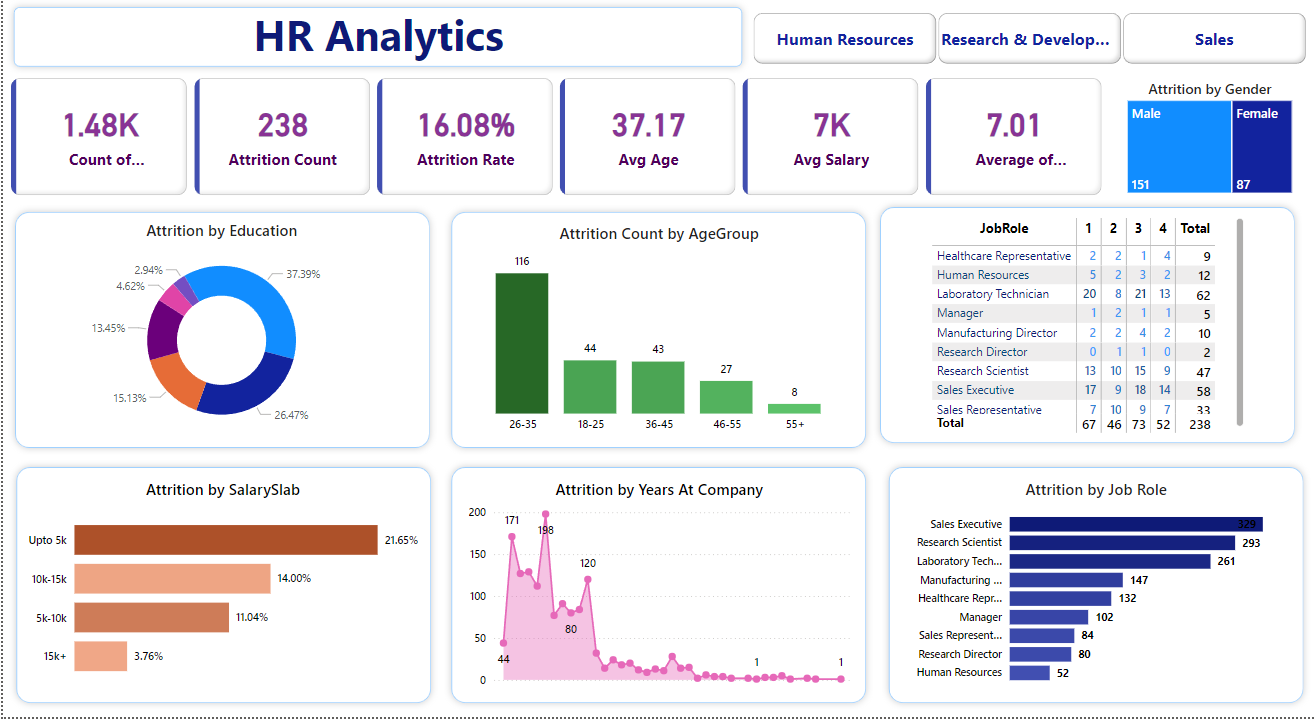

This screenshot's page, from the dashboard's own definition file:
{"tool":"powerbi","page":{"name":"Page 1","canvas":[1500,820],"ordinal":0},"visuals":[{"type":"cardVisual","fields":{"Data":["CountNonNull(HR_Analytics.EmployeeCount)","HR_Analytics.Attrition Count","HR_Analytics.Attrition Rate","HR_Analytics.Avg Age","HR_Analytics.Avg Salary","Avg(HR_Analytics.YearsAtCompany)"]},"box":[4.3,84.3,1258.6,144.3],"z":0},{"type":"shape","box":[5.7,234.3,490,285.7],"z":1000},{"type":"shape","box":[504.3,234.3,490,285.7],"z":2000},{"type":"shape","box":[994.3,228.6,490,285.7],"z":3000},{"type":"shape","box":[7.1,525.7,490,285.7],"z":4000},{"type":"shape","box":[504.3,525.7,490,285.7],"z":5000},{"type":"shape","box":[1004.3,525.7,490,285.7],"z":6000},{"type":"donutChart","title":"Attrition by Education","fields":{"Y":["HR_Analytics.Attrition Count"],"Category":["HR_Analytics.EducationField"]},"box":[21.4,251.4,457.1,252.9],"z":7000},{"type":"pivotTable","fields":{"Rows":["HR_Analytics.JobRole"],"Columns":["HR_Analytics.JobSatisfaction"],"Values":["HR_Analytics.Attrition Count"]},"box":[1057.1,244.3,365.7,255.7],"z":8000},{"type":"barChart","title":"Attrition by SalarySlab","fields":{"Category":["HR_Analytics.SalarySlab"],"Y":["HR_Analytics.Attrition Rate"]},"box":[22.9,547.1,457.1,244.3],"z":9000},{"type":"columnChart","fields":{"Category":["HR_Analytics.AgeGroup"],"Y":["HR_Analytics.Attrition Count"]},"box":[527.1,254.3,445.7,248.6],"z":10000},{"type":"shape","box":[4.3,0,848.6,84.3],"z":11000},{"type":"textbox","box":[234.3,1.4,390,78.6],"z":12000},{"type":"treemap","title":"Attrition by Gender","fields":{"Group":["HR_Analytics.Gender"],"Values":["HR_Analytics.Attrition Count"]},"box":[1280,90,198.6,135.7],"z":13000},{"type":"barChart","title":"Attrition by Job Role","fields":{"Category":["HR_Analytics.JobRole"],"Y":["CountNonNull(HR_Analytics.Attrition)"]},"box":[1025.7,547.1,447.1,244.3],"z":14000},{"type":"areaChart","title":"Attrition by Years At Company","fields":{"Y":["CountNonNull(HR_Analytics.Attrition)"],"Category":["HR_Analytics.YearsAtCompany"]},"box":[527.1,547.1,445.7,244.3],"z":15000},{"type":"advancedSlicerVisual","fields":{"Values":["HR_Analytics.Department"]},"box":[852.9,10,641.4,68.6],"z":16000}]}

Visuals, with their boxes in screenshot pixels (x1, y1, x2, y2), scaled from the page's 1500x820 canvas onto the 1315x720 screenshot:
cardVisual - CountNonNull(HR_Analytics.EmployeeCount) x HR_Analytics.Attrition Count: [left=4, top=74, right=1107, bottom=201]
shape: [left=5, top=206, right=435, bottom=457]
shape: [left=442, top=206, right=872, bottom=457]
shape: [left=872, top=201, right=1301, bottom=452]
shape: [left=6, top=462, right=436, bottom=712]
shape: [left=442, top=462, right=872, bottom=712]
shape: [left=880, top=462, right=1310, bottom=712]
"Attrition by Education" donutChart: [left=19, top=221, right=419, bottom=443]
pivotTable - HR_Analytics.JobRole x HR_Analytics.JobSatisfaction: [left=927, top=215, right=1247, bottom=439]
"Attrition by SalarySlab" barChart: [left=20, top=480, right=421, bottom=695]
columnChart - HR_Analytics.AgeGroup x HR_Analytics.Attrition Count: [left=462, top=223, right=853, bottom=442]
shape: [left=4, top=0, right=748, bottom=74]
textbox: [left=205, top=1, right=547, bottom=70]
"Attrition by Gender" treemap: [left=1122, top=79, right=1296, bottom=198]
"Attrition by Job Role" barChart: [left=899, top=480, right=1291, bottom=695]
"Attrition by Years At Company" areaChart: [left=462, top=480, right=853, bottom=695]
advancedSlicerVisual - HR_Analytics.Department: [left=748, top=9, right=1310, bottom=69]
